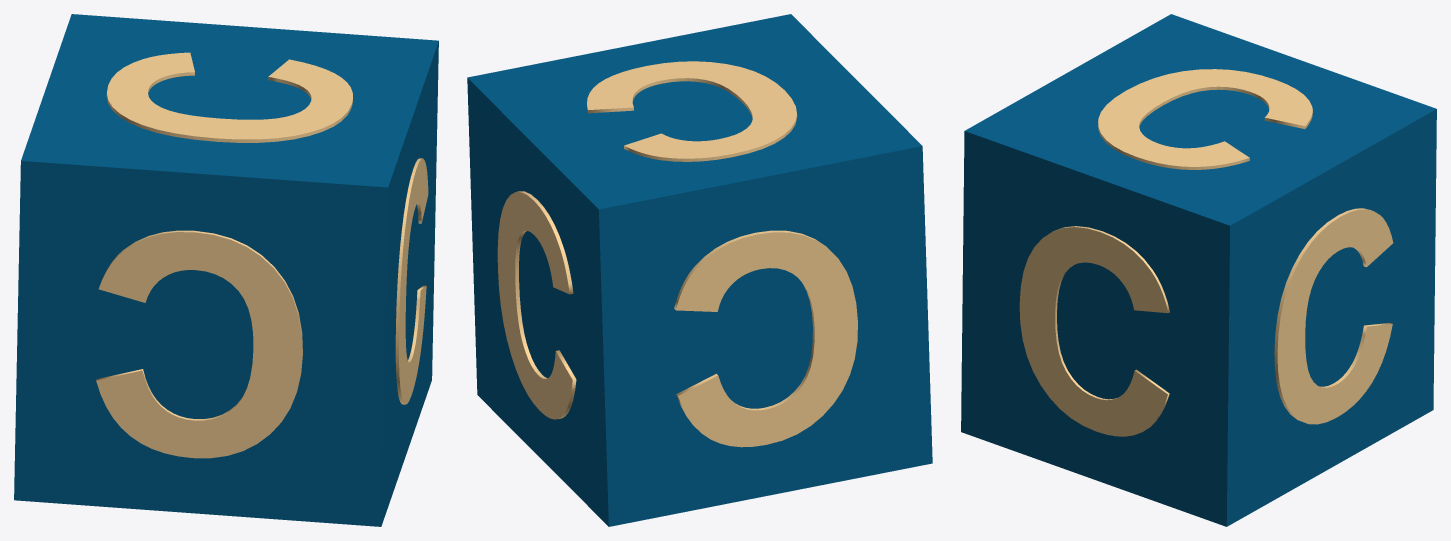
The model's file is 11charfi.fbx.
3 views of the same model, side by side, from view 1: azimuth 30°, elevation 25°; view 2: azimuth 150°, elevation 25°; view 3: azimuth 270°, elevation 25° (orthographic). The views are drawn at different scales.
Visible parts, largest first — view 1: Cube.037; view 2: Cube.037; view 3: Cube.037.
Boxes of the visible parts, x1,y1,x2,y2 form: Cube.037: [14, 14, 438, 526]; Cube.037: [467, 14, 932, 526]; Cube.037: [961, 14, 1436, 526].
Bounding box in the file's own units: 11.81 × 8.6 × 11.67.
